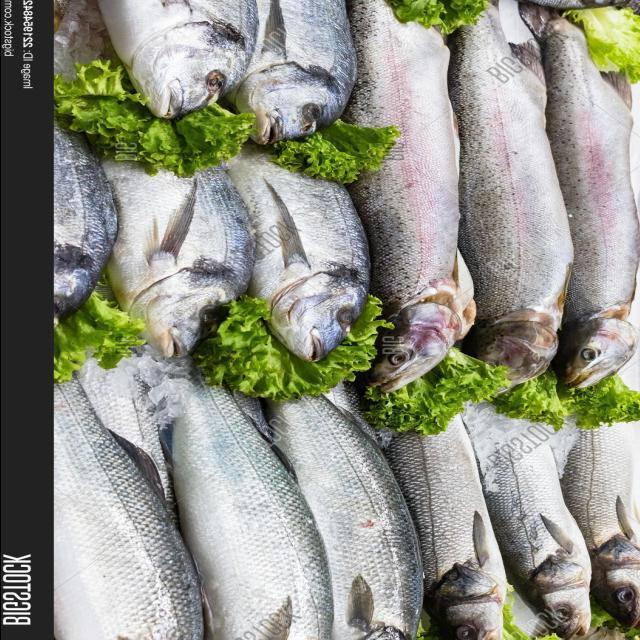fish: (342, 0, 474, 392), (447, 0, 572, 388), (517, 2, 638, 386), (167, 380, 331, 639), (266, 387, 422, 639), (52, 379, 201, 639), (226, 144, 368, 360), (100, 158, 253, 357), (383, 414, 506, 639), (484, 423, 589, 637), (95, 0, 256, 117), (224, 0, 355, 143), (558, 423, 639, 625)
